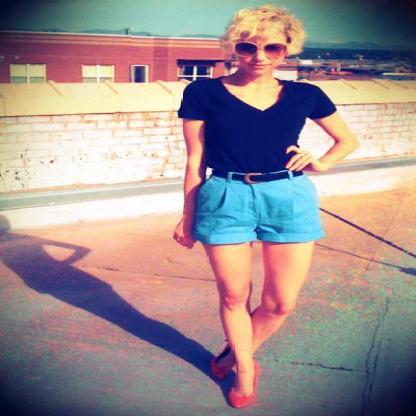shirt: (177, 76, 336, 174)
shoe: (212, 358, 256, 407)
shorts: (190, 175, 324, 243)
sunglass: (235, 43, 286, 54)
